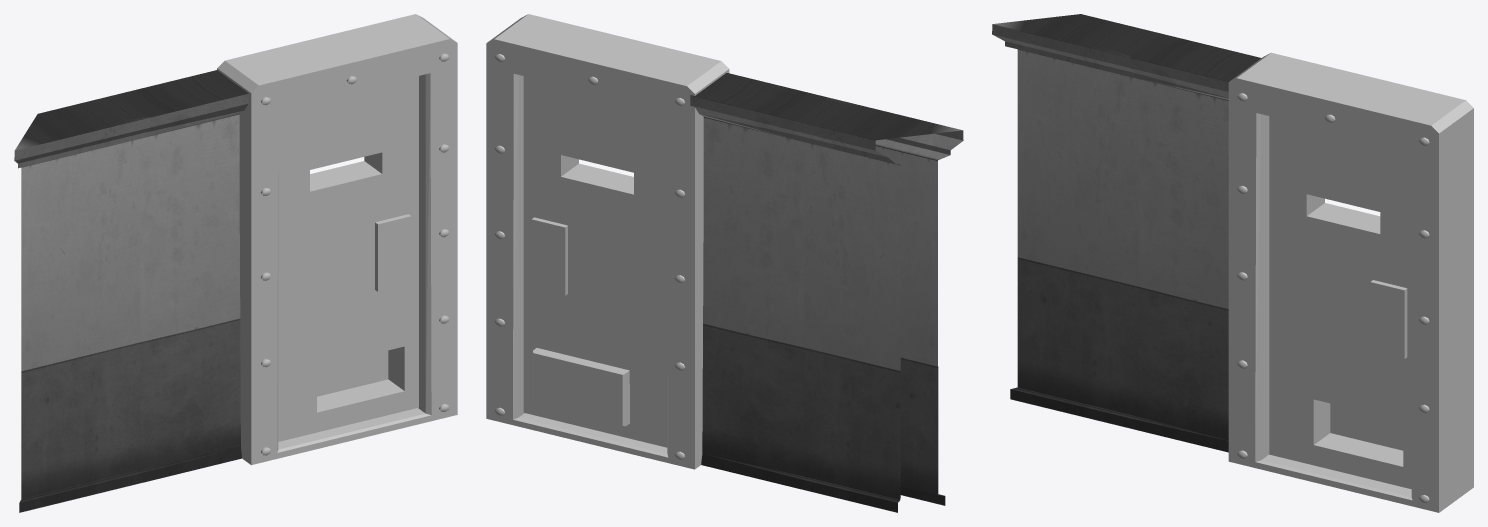
Rendered from Door_wall.fbx.
3 renders of one model, left to right at view 1: azimuth 30°, elevation 25°; view 2: azimuth 150°, elevation 25°; view 3: azimuth 330°, elevation 25°, orthographic. The views are drawn at different scales.
Visible parts, largest first — view 1: Wall7, Door1, Door_Frame; view 2: Wall7, Door1, Door_Frame; view 3: Wall7, Door_Frame, Door1.
Part boxes in pixels (x1=…): Wall7: x1=14, y1=70, x2=248, y2=512; Door1: x1=278, y1=76, x2=418, y2=441; Door_Frame: x1=217, y1=14, x2=457, y2=465; Wall7: x1=690, y1=73, x2=963, y2=512; Door1: x1=523, y1=76, x2=667, y2=447; Door_Frame: x1=486, y1=14, x2=729, y2=469; Wall7: x1=992, y1=14, x2=1261, y2=452; Door_Frame: x1=1228, y1=52, x2=1473, y2=512; Door1: x1=1269, y1=116, x2=1411, y2=489.
Size of the model in its own units: 3.73 by 3.06 by 0.5561.
